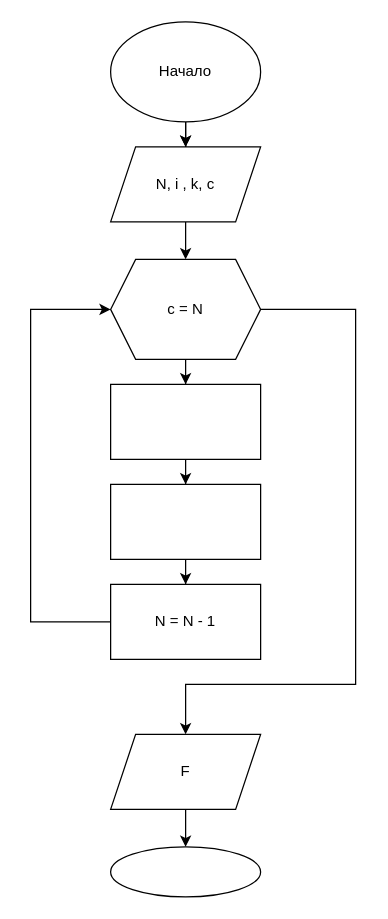
Some shapes in this 388 by 919 pixel diagram are drawn without their labels. Each missing label, with the centre of its shape:
"B = Int(Rnd*89)+10" belongs at [185,421].
"i = i + 1" belongs at [185,521].
"Конец" belongs at [185,871].
